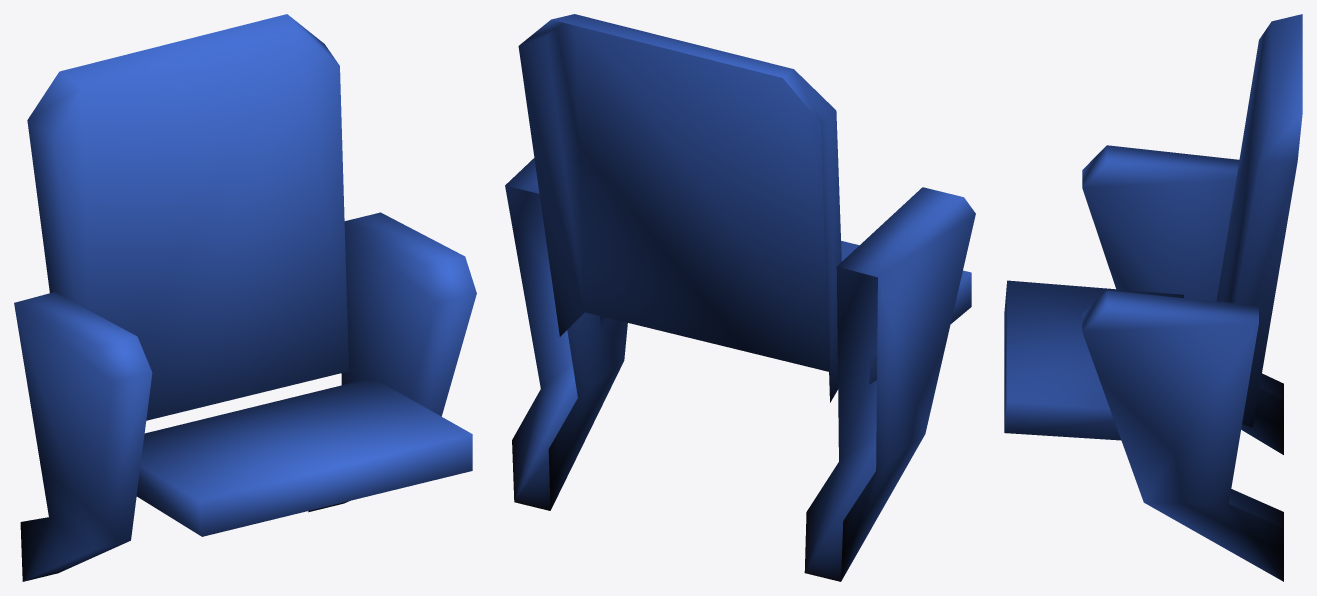
File: Seat_Med.fbx
3 renders of one model, left to right at view 1: azimuth 30°, elevation 25°; view 2: azimuth 150°, elevation 25°; view 3: azimuth 270°, elevation 25°, orthographic. The views are drawn at different scales.
Parts seen in each view (by area): view 1: Seat_Med; view 2: Seat_Med; view 3: Seat_Med.
Boxes of the visible parts, <box> form: Seat_Med: <box>14,14,476,581</box>; Seat_Med: <box>505,14,975,581</box>; Seat_Med: <box>1004,14,1302,581</box>.
Bounding box in the file's own units: 374 × 479 × 289.
